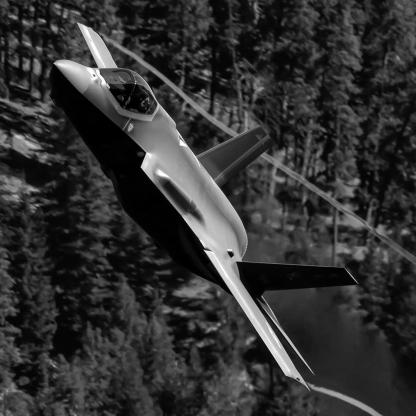F35: (50, 23, 360, 394)
